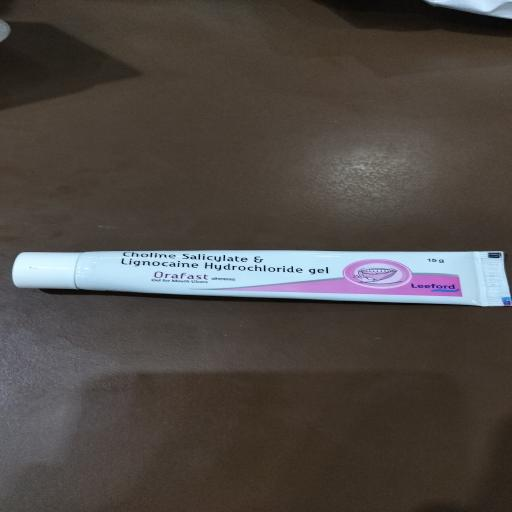hydrochloride-gel: (119, 252, 331, 273)
medicine: (1, 252, 512, 314)
